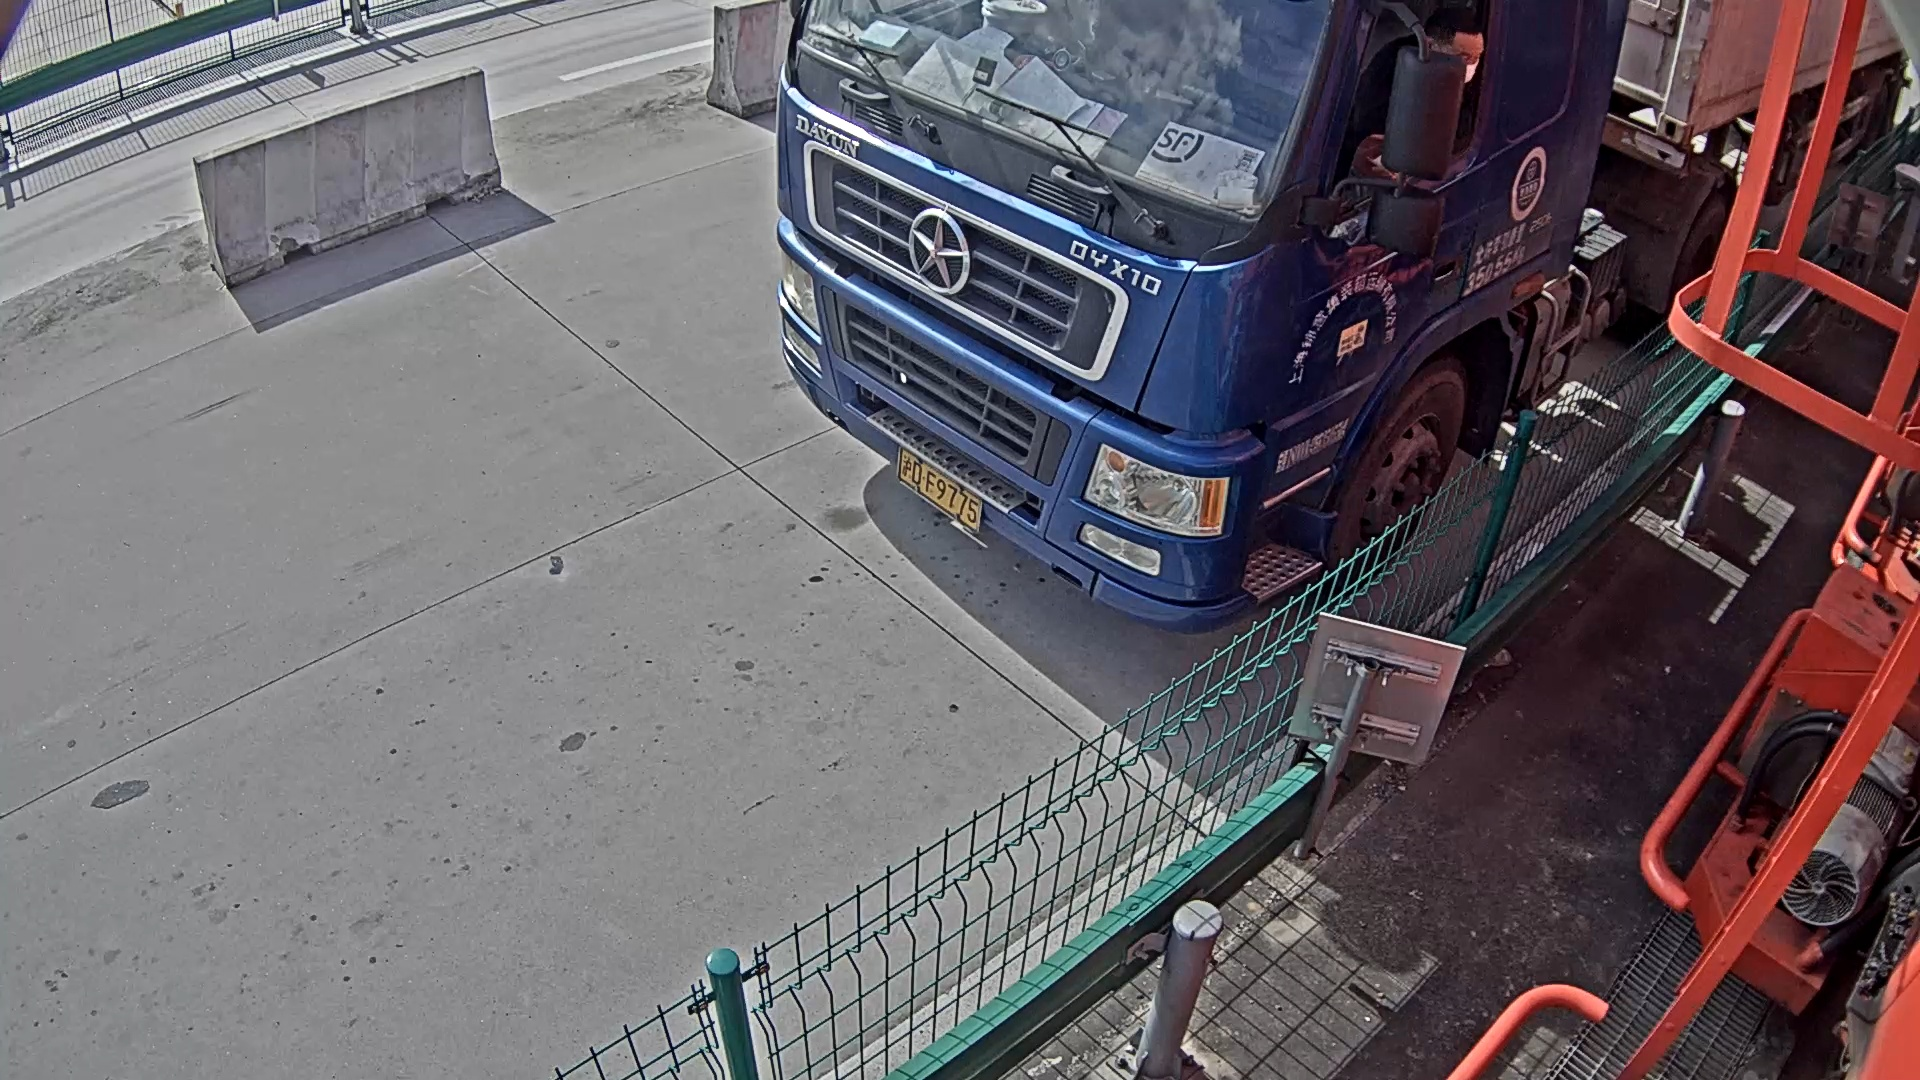head: (774, 1, 1591, 622)
plate: (895, 442, 986, 532)
